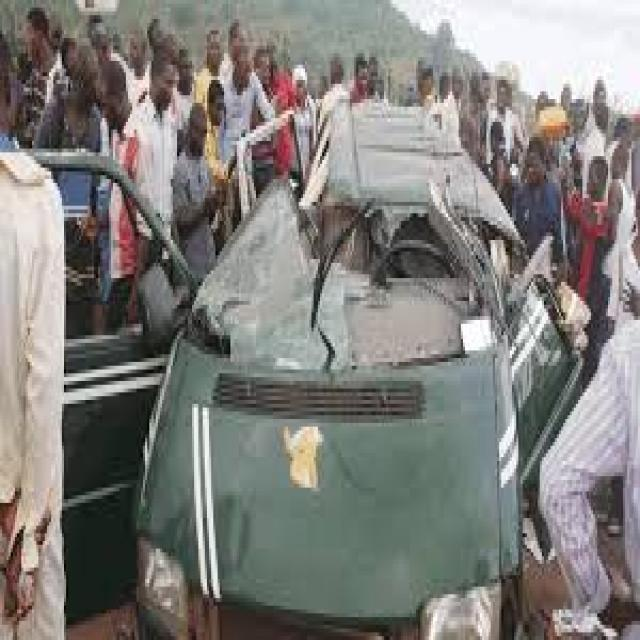accident: (140, 99, 537, 640)
